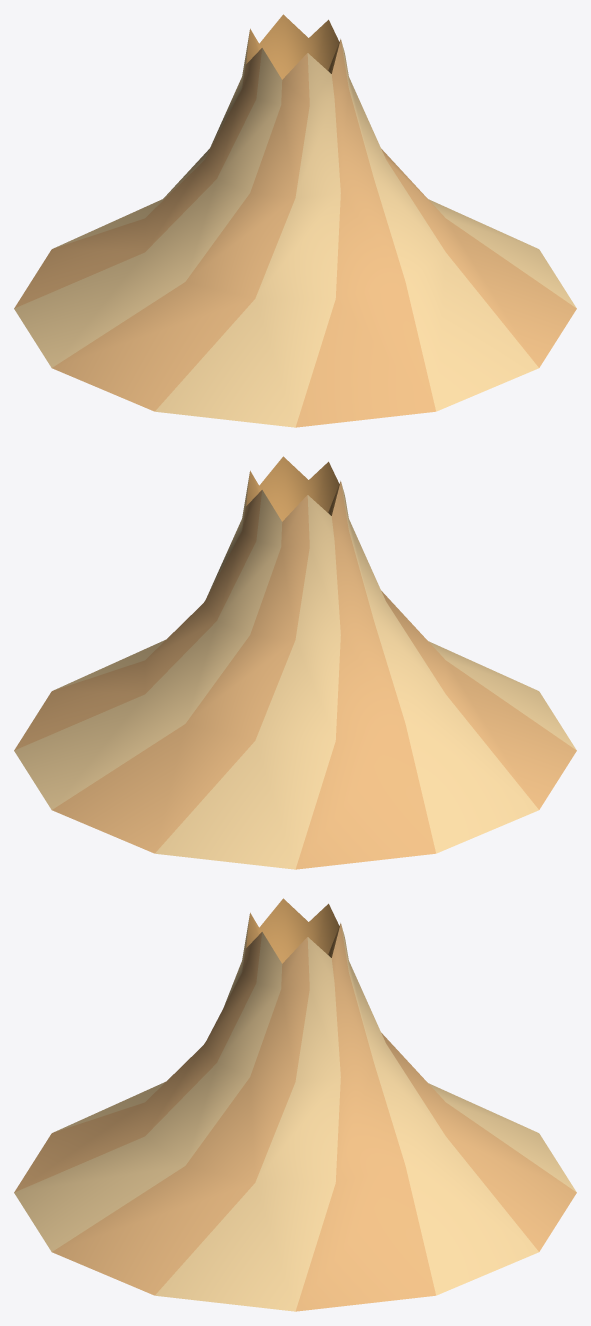
The model's file is volcano.fbx.
The picture shows the model from 3 angles, top to bottom: view 1: azimuth 30°, elevation 25°; view 2: azimuth 150°, elevation 25°; view 3: azimuth 270°, elevation 25°; orthographic projection.
Parts seen in each view (by area): view 1: volcano; view 2: volcano; view 3: volcano.
Boxes of the visible parts, x1,y1,x2,y2 form: volcano: [14, 14, 576, 427]; volcano: [14, 456, 576, 869]; volcano: [14, 898, 576, 1311].
Bounding box in the file's own units: 293 × 158 × 293.
